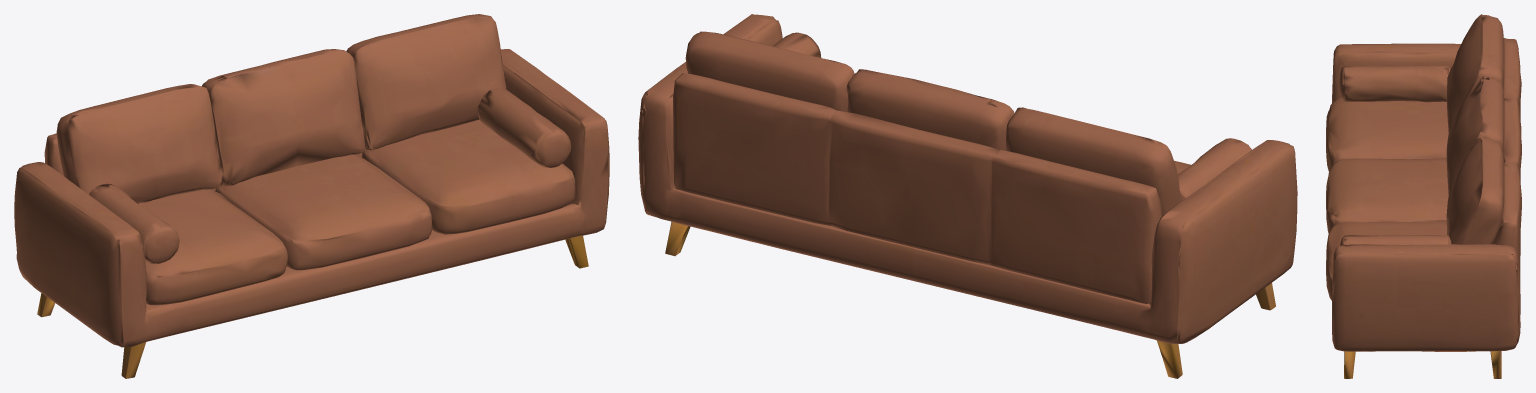
File: sofa_terracotta.glb
3 renders of one model, left to right at view 1: azimuth 30°, elevation 25°; view 2: azimuth 150°, elevation 25°; view 3: azimuth 270°, elevation 25°, orthographic. The views are drawn at different scales.
Parts seen in each view (by area): view 1: prop; view 2: prop; view 3: prop.
Part boxes in pixels (left/top/right/bottom): prop: left=14, top=14, right=609, bottom=378; prop: left=638, top=14, right=1297, bottom=378; prop: left=1326, top=14, right=1521, bottom=378.
Bounding box in the file's own units: 2.2 × 0.8404 × 0.8393.
1 material, 1 textured.
